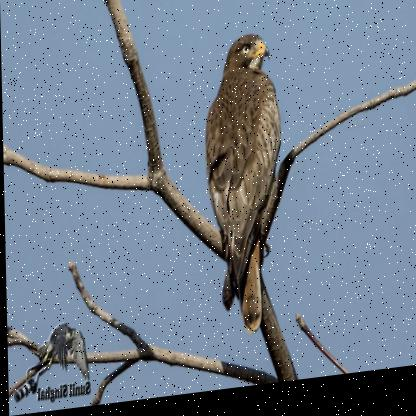Burung: (194, 32, 283, 338)
